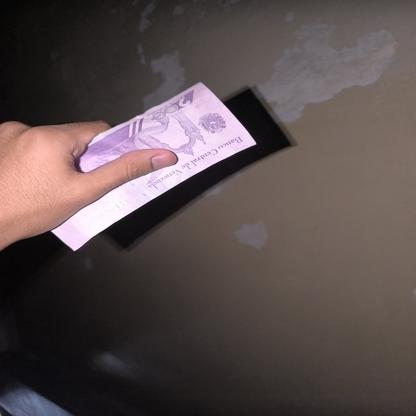one_hundred-back-vef: (49, 81, 258, 252)
